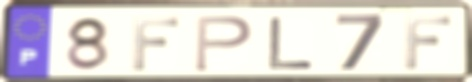7: (331, 12, 389, 73)
8: (63, 16, 112, 73)
F: (130, 16, 183, 73), (402, 15, 455, 71)
L: (266, 15, 317, 71)
P: (192, 14, 255, 74)
